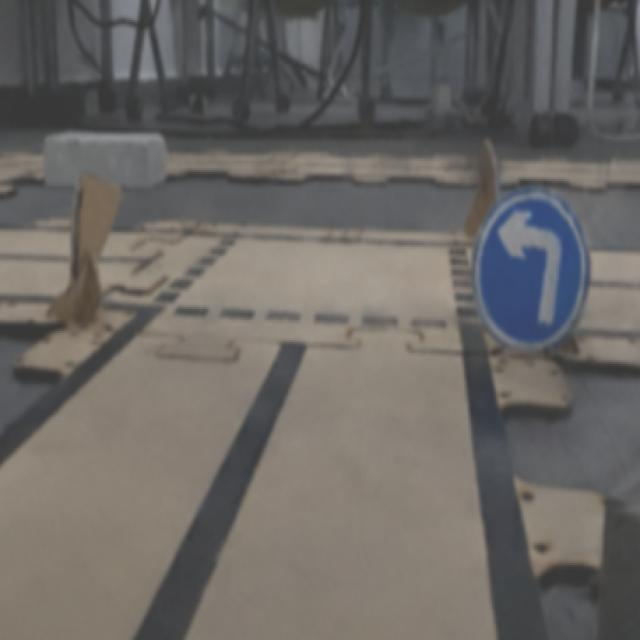LEFT: (472, 188, 588, 349)
